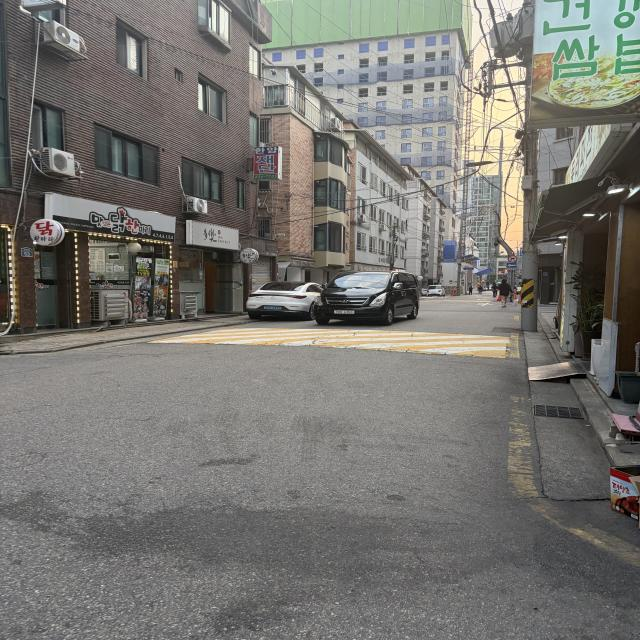car: (314, 263, 433, 334), (230, 269, 341, 334)
